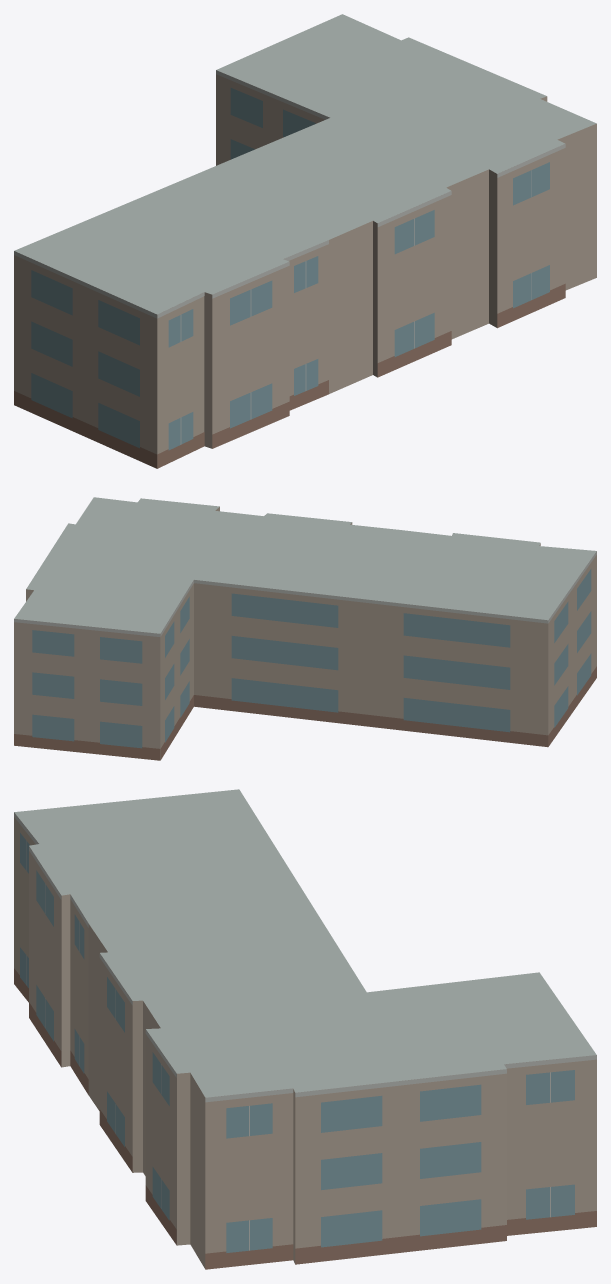
Rendered from survey-upis-32768666.glb.
3 views of the same model, one above another, from view 1: azimuth 30°, elevation 25°; view 2: azimuth 150°, elevation 25°; view 3: azimuth 270°, elevation 25° (orthographic). The views are drawn at different scales.
Parts seen in each view (by area): view 1: survey-upis-32768666.tmp; view 2: survey-upis-32768666.tmp; view 3: survey-upis-32768666.tmp.
Part boxes in pixels (left/top/right/bottom): survey-upis-32768666.tmp: left=14, top=14, right=596, bottom=468; survey-upis-32768666.tmp: left=14, top=497, right=596, bottom=760; survey-upis-32768666.tmp: left=14, top=789, right=596, bottom=1269.
Size of the model in its own units: 35.24 by 9.15 by 28.13.
